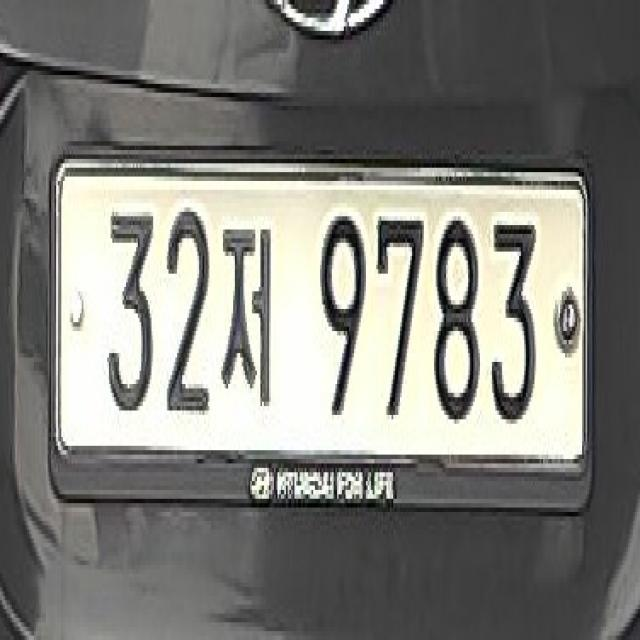2: (165, 207, 211, 424)
3: (485, 216, 540, 433), (105, 203, 158, 428)
7: (374, 199, 426, 419)
8: (432, 208, 480, 428)
9: (316, 207, 368, 415)
jeo: (220, 216, 274, 406)
license_plate: (54, 159, 589, 485)
